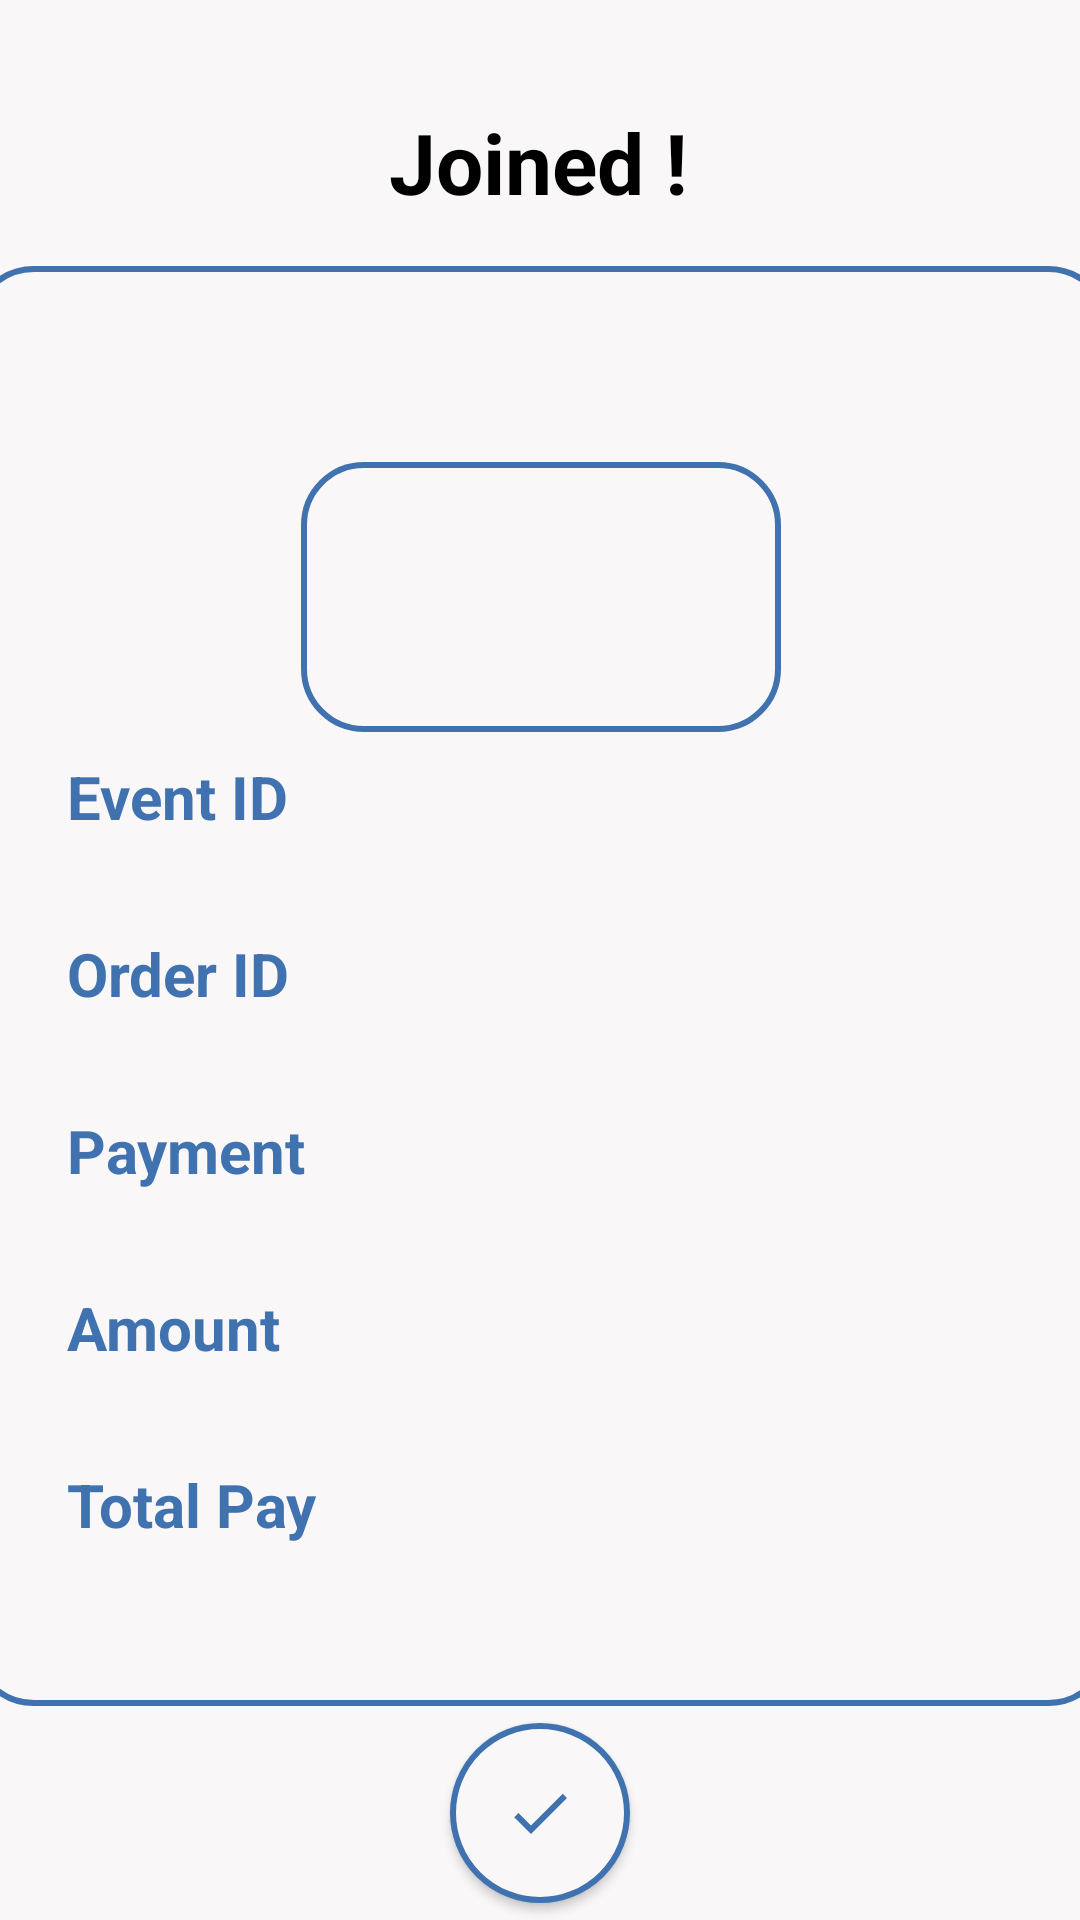

Screen size 1080w x 1920h. Icon name, then its center in pixels as (x=x, y=y):
check: (x=540, y=1813)
